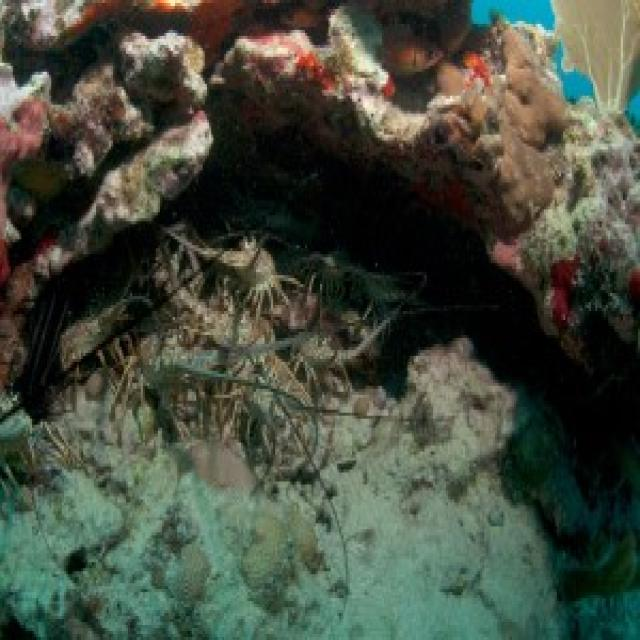lobsters: (4, 144, 632, 617), (77, 137, 325, 346)
